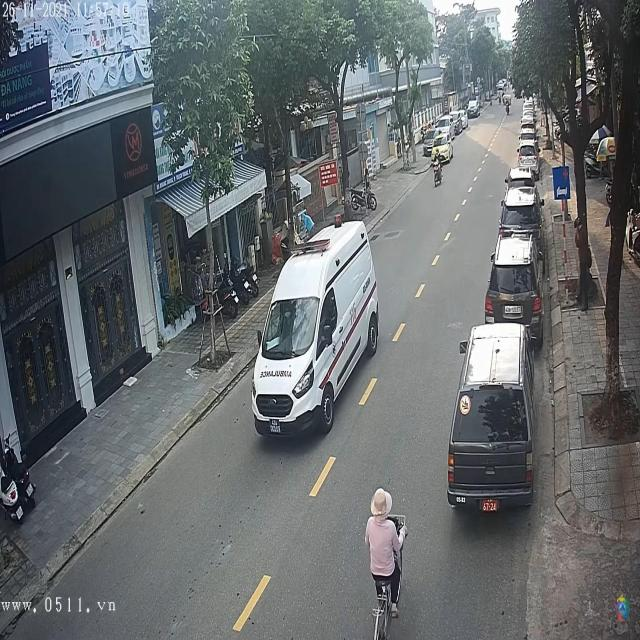car: (253, 219, 381, 439), (449, 328, 535, 513), (485, 233, 543, 337), (499, 188, 543, 238), (517, 147, 538, 168), (468, 99, 481, 117)
motorcycle: (431, 159, 443, 188)
